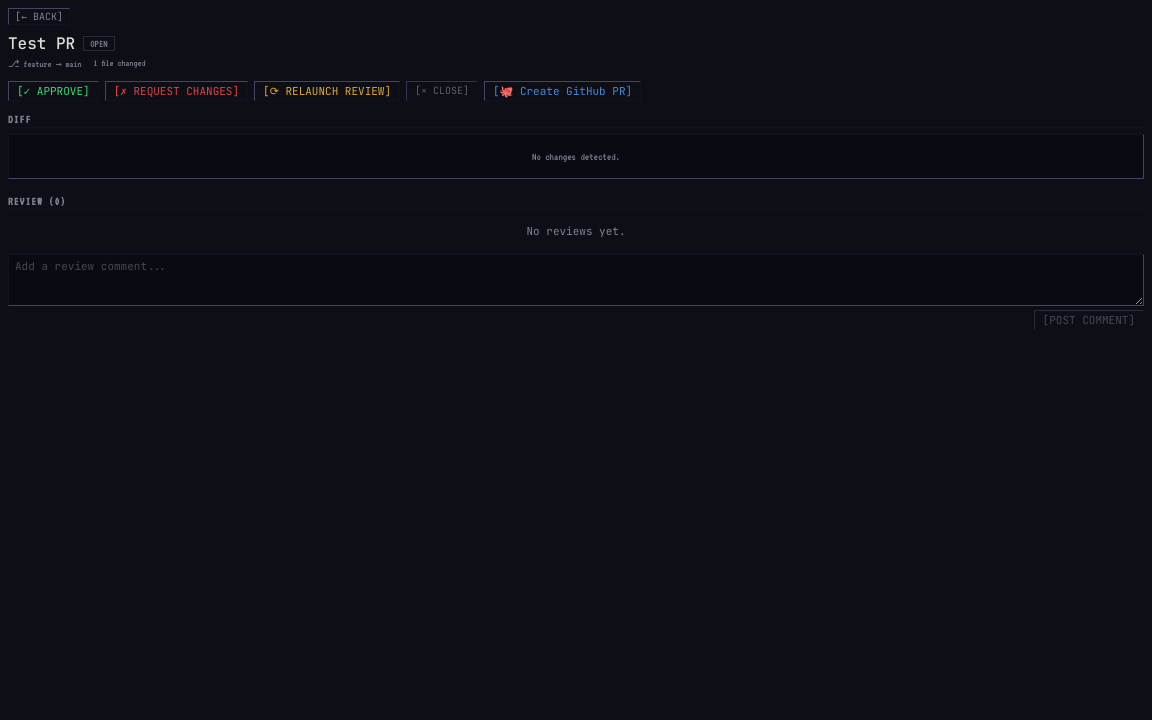
Test: PRDetail — GitHub merge mode › shows confirmation dialog for GitHub PR creation
Click the button "[🐙 Create GitHub PR]" at (563, 91), box [484,81,641,101]
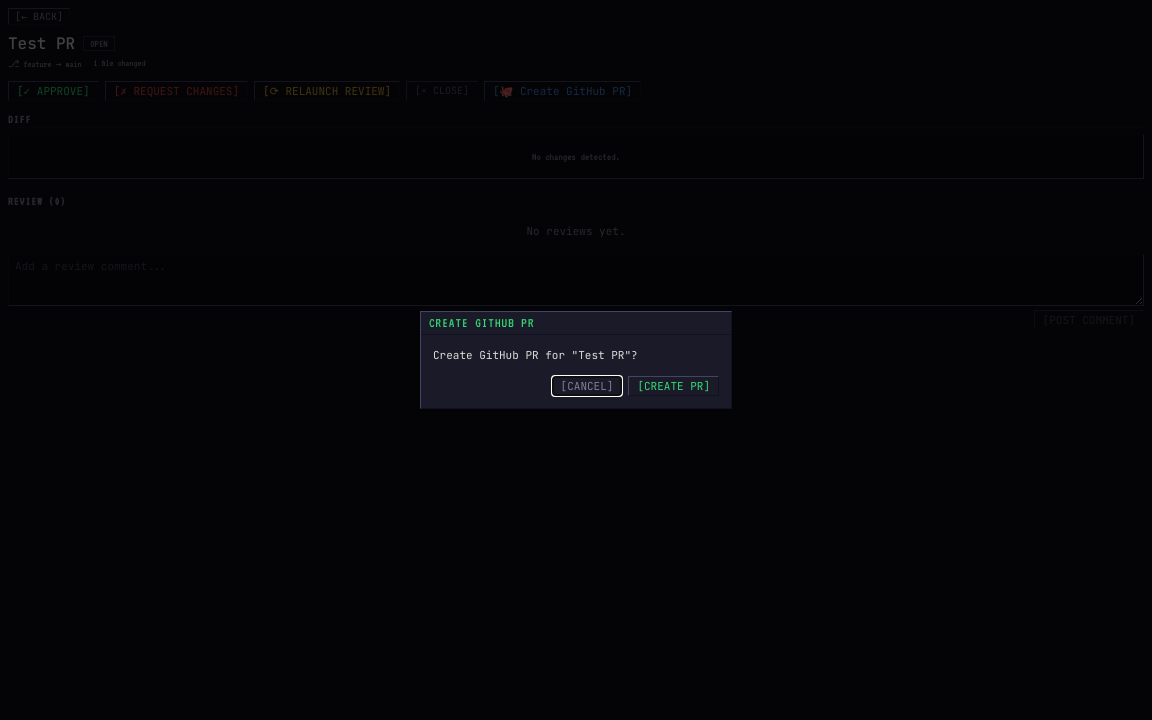
Now the dialog is shown, box [420,311,732,409]
Now the text "Create GitHub PR for \"Test PR\"?" is shown, box [433,348,638,362]
